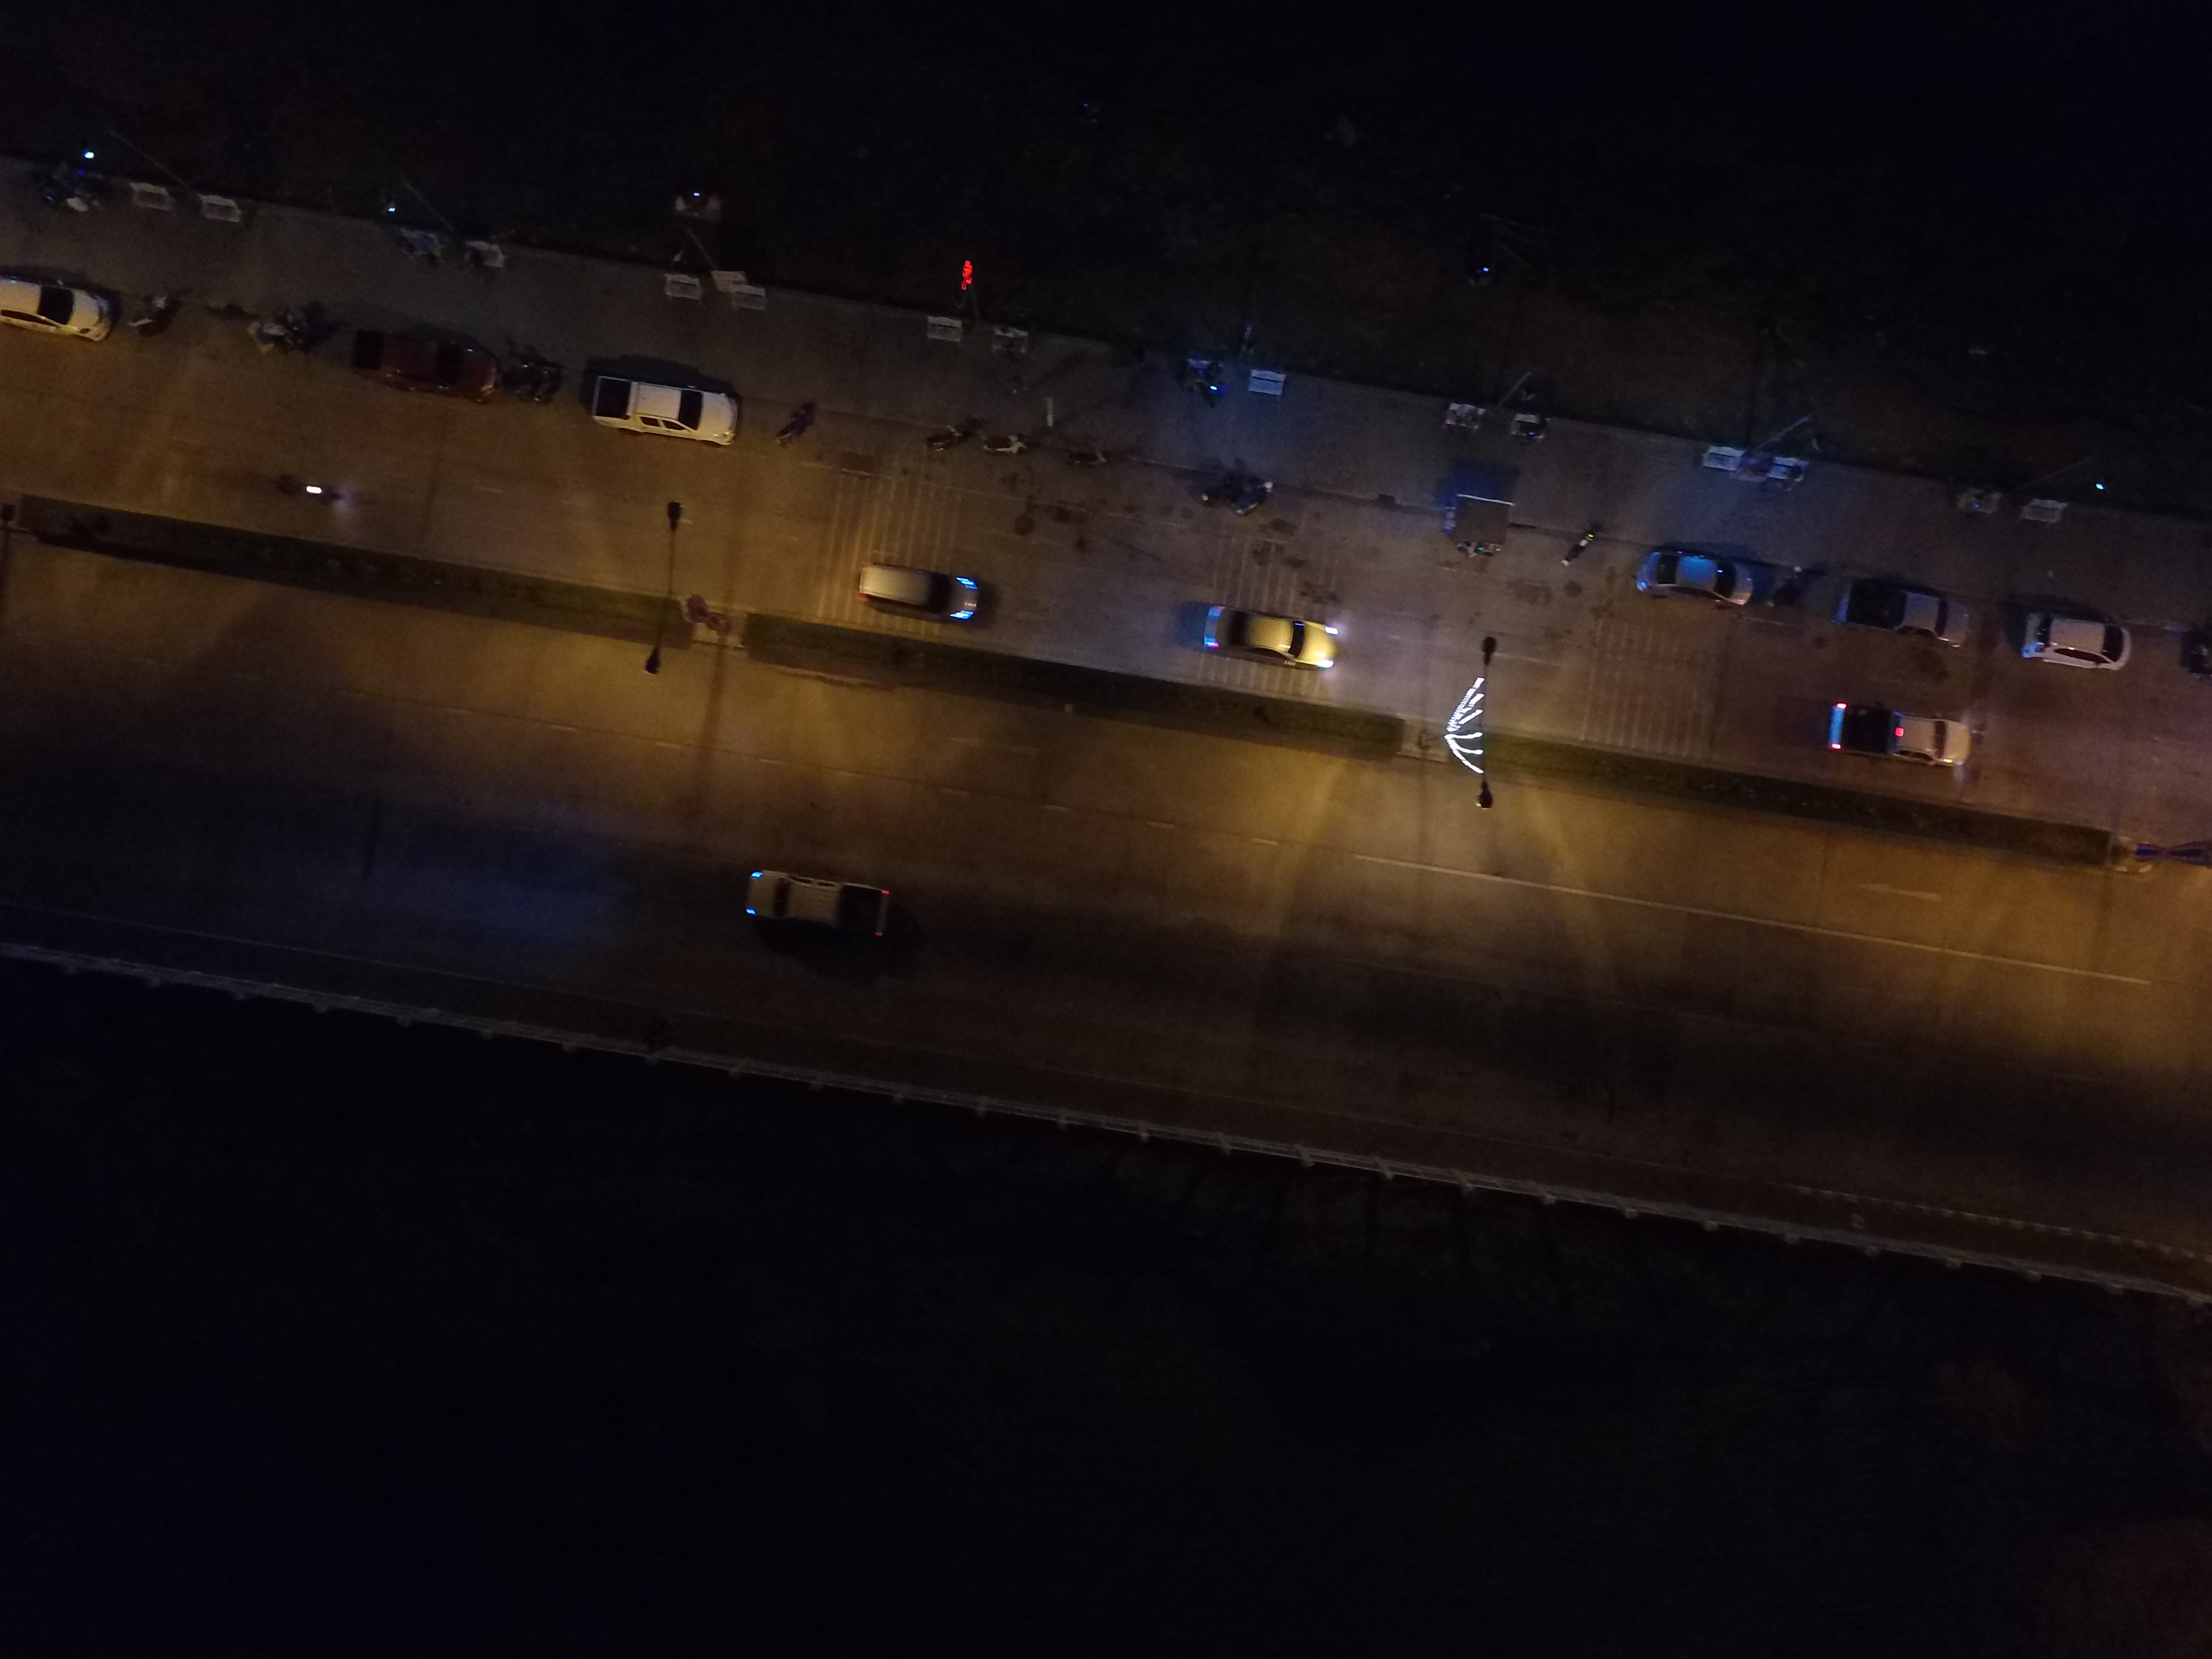car: (577, 356, 756, 462), (345, 314, 523, 420), (1186, 582, 1348, 692), (1609, 528, 1771, 638), (1825, 545, 1986, 655), (1994, 598, 2155, 708), (733, 845, 895, 953), (841, 544, 1003, 652), (1820, 681, 1980, 789), (2, 260, 134, 362)
